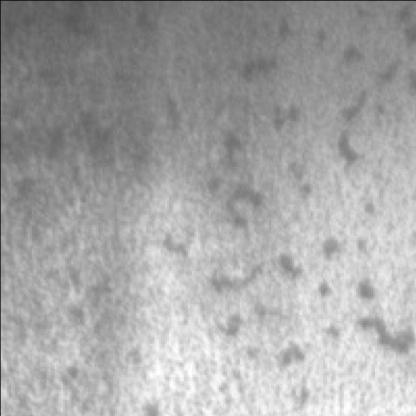pitted_surface: (33, 46, 310, 412), (247, 29, 416, 405)
